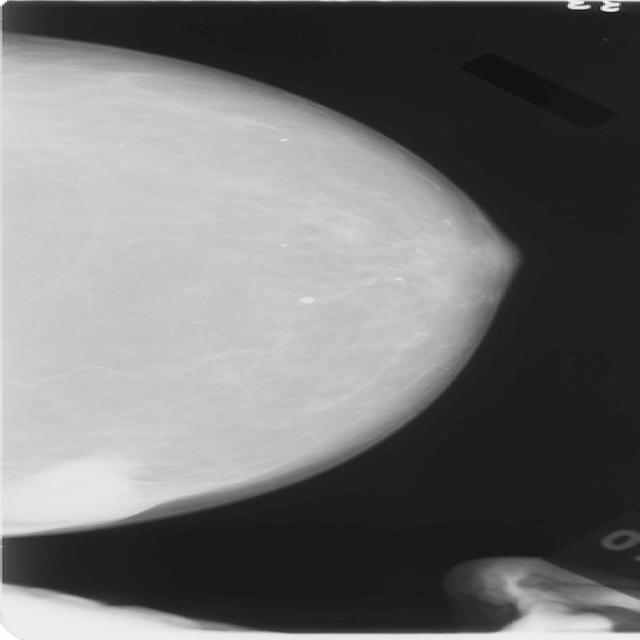tumour: (0, 455, 149, 533)
